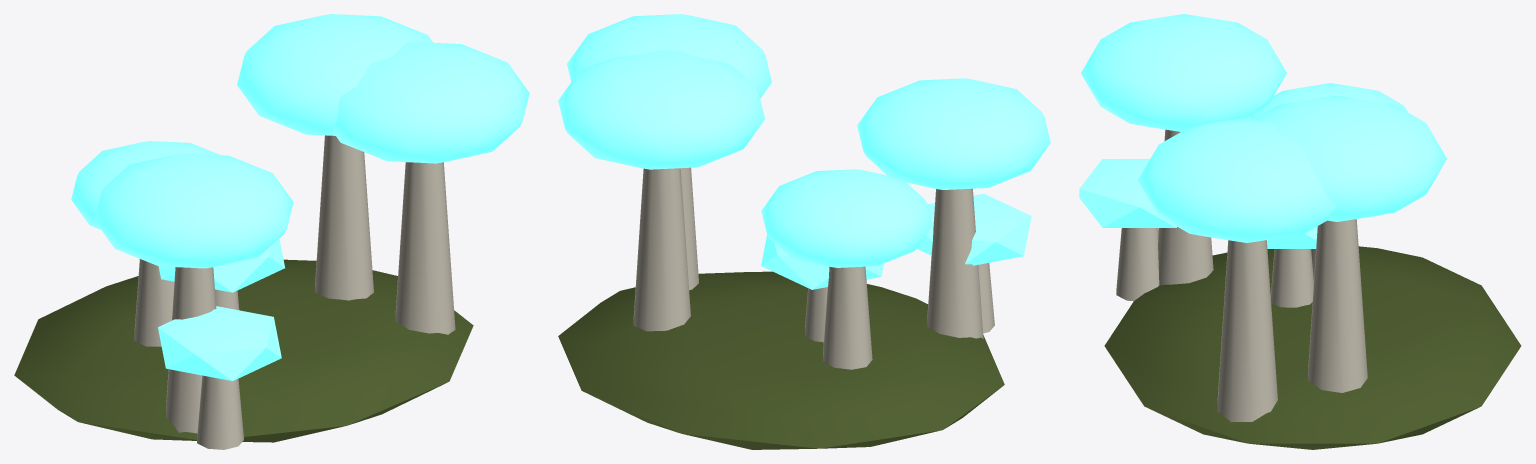
File: shrooms.glb
The picture shows the model from 3 angles, left to right: view 1: azimuth 30°, elevation 25°; view 2: azimuth 150°, elevation 25°; view 3: azimuth 270°, elevation 25°; orthographic projection. The views are drawn at different scales.
Parts seen in each view (by area): view 1: shrooms; view 2: shrooms; view 3: shrooms.
Part boxes in pixels (x1,y1,x2,y2): shrooms: [14, 14, 529, 449]; shrooms: [558, 14, 1050, 449]; shrooms: [1079, 14, 1521, 449].
Bounding box in the file's own units: 0.5847 × 0.4046 × 0.5086.
